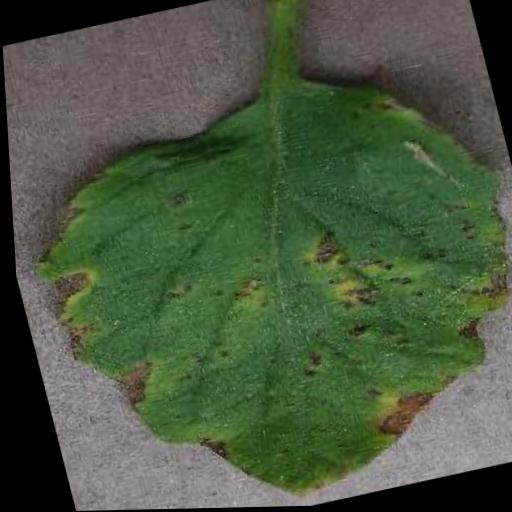Bacterial Spot: (2, 29, 512, 512)
